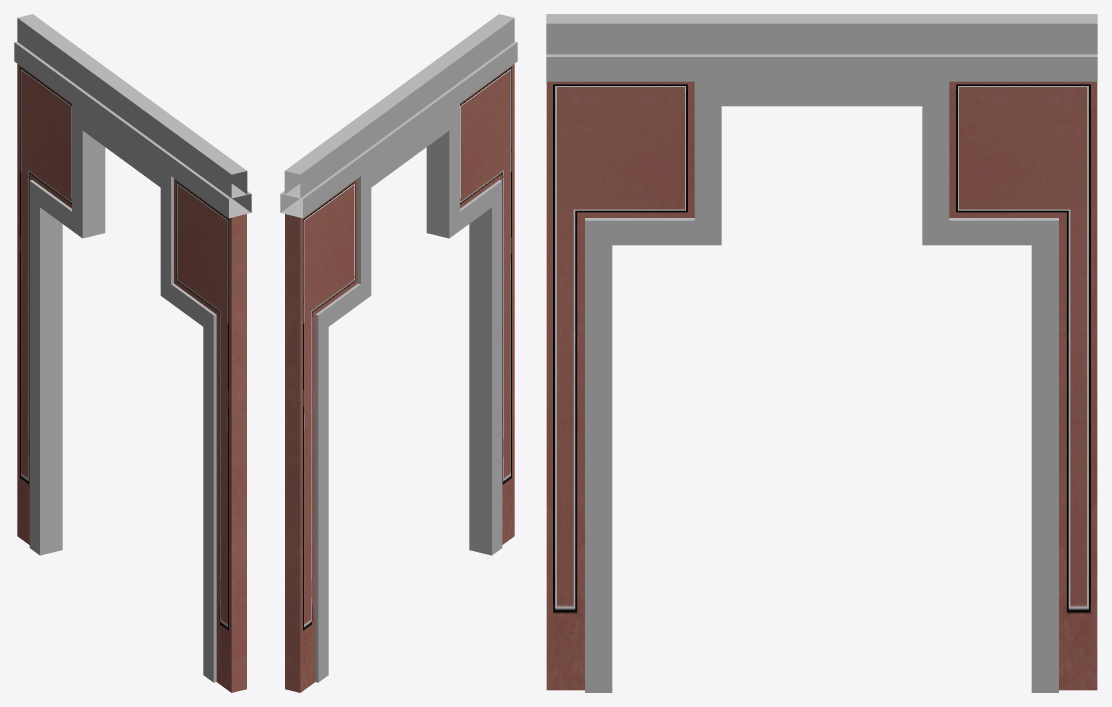
File: SM_Wall02K.fbx
3 renders of one model, left to right at view 1: azimuth 30°, elevation 25°; view 2: azimuth 150°, elevation 25°; view 3: azimuth 270°, elevation 25°, orthographic. The views are drawn at different scales.
Visible parts, largest first — view 1: SM_Wall02K; view 2: SM_Wall02K; view 3: SM_Wall02K.
Boxes of the visible parts, x1,y1,x2,y2 form: SM_Wall02K: [14, 14, 251, 692]; SM_Wall02K: [280, 14, 517, 692]; SM_Wall02K: [546, 14, 1097, 692].
Size of the model in its own units: 14.25 by 233 by 311.
